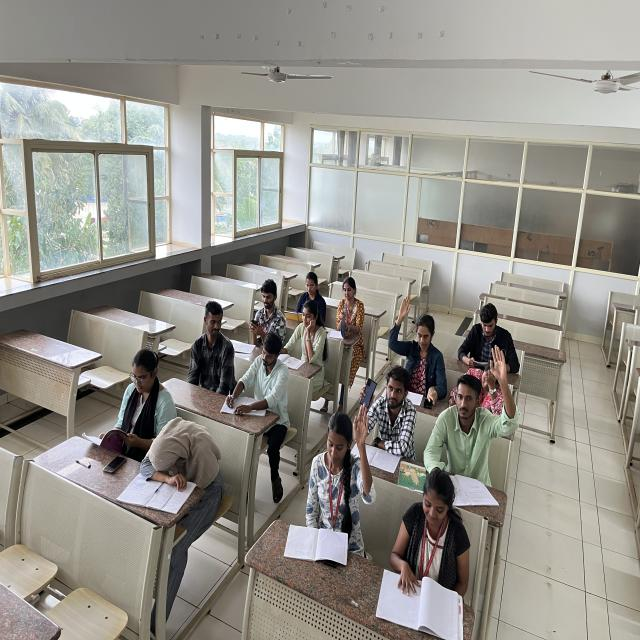Hand Rising: (295, 401, 377, 568), (427, 344, 512, 468), (388, 293, 450, 402)
Reading: (387, 469, 475, 632), (84, 343, 174, 448), (329, 270, 367, 350), (287, 269, 320, 319)
Sleeping: (139, 405, 219, 514)
Using Phone: (245, 272, 286, 338)
Writing: (220, 334, 290, 428)
